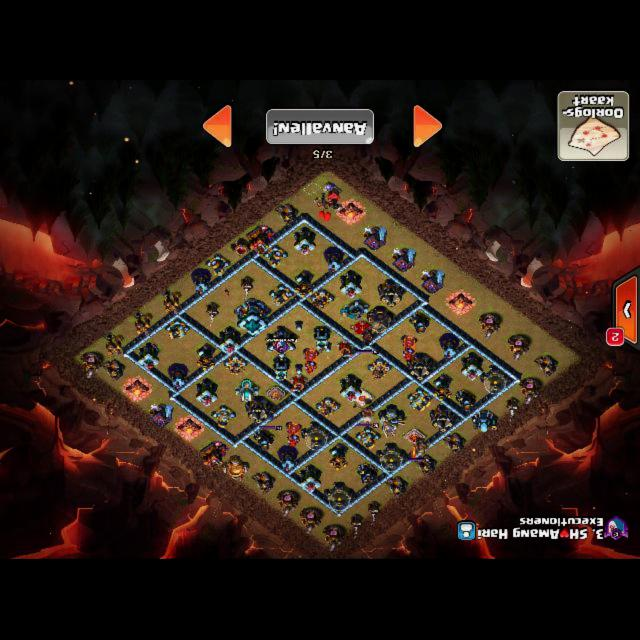AD: (329, 443, 348, 472), (433, 374, 452, 403), (197, 343, 216, 372), (295, 271, 314, 299)
AirSweeper: (290, 374, 308, 393), (337, 339, 355, 358)
BombTower: (314, 328, 330, 354), (274, 358, 289, 383)
Canon: (408, 389, 434, 413), (205, 254, 230, 277), (263, 245, 288, 268), (356, 427, 381, 450), (211, 406, 236, 429), (269, 285, 294, 307), (165, 319, 190, 340)
ClanCastle: (268, 327, 296, 360)
Eagle: (379, 406, 405, 439)
Inferno: (286, 423, 302, 449), (402, 337, 418, 363), (303, 349, 318, 375)
KingPad: (404, 430, 426, 446)
Mortar: (253, 429, 275, 452), (409, 313, 431, 335), (455, 391, 476, 413), (357, 464, 378, 485)
QueenPad: (350, 321, 373, 338)
RcPad: (267, 388, 285, 402)
Scattershot: (341, 298, 369, 321), (235, 380, 258, 404)
TH13: (237, 299, 268, 338)
WardenPad: (351, 391, 372, 406)
WizzTower: (192, 270, 211, 296), (325, 247, 344, 273), (169, 364, 188, 390), (440, 334, 459, 359), (280, 447, 298, 473)
Xbow: (310, 290, 335, 312), (367, 360, 392, 382), (223, 354, 248, 376), (315, 397, 340, 418)
